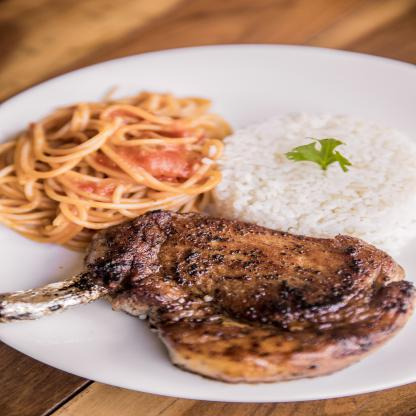Carne: (105, 205, 414, 379)
